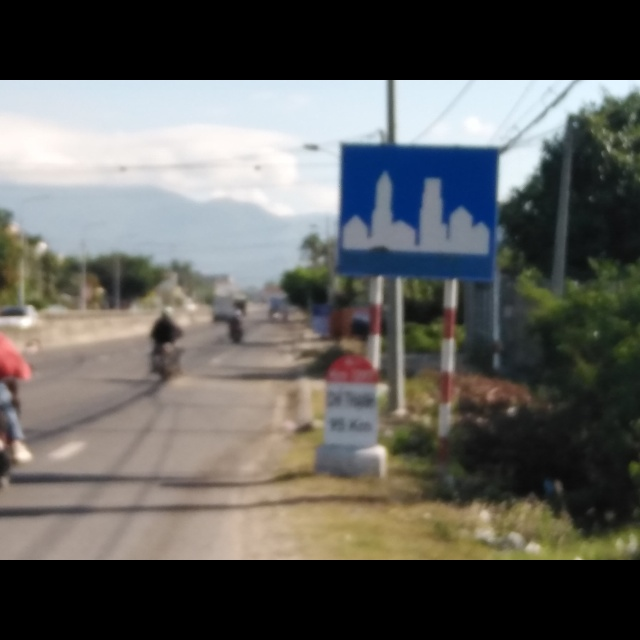Khu đông dân cư: (333, 135, 499, 284)
